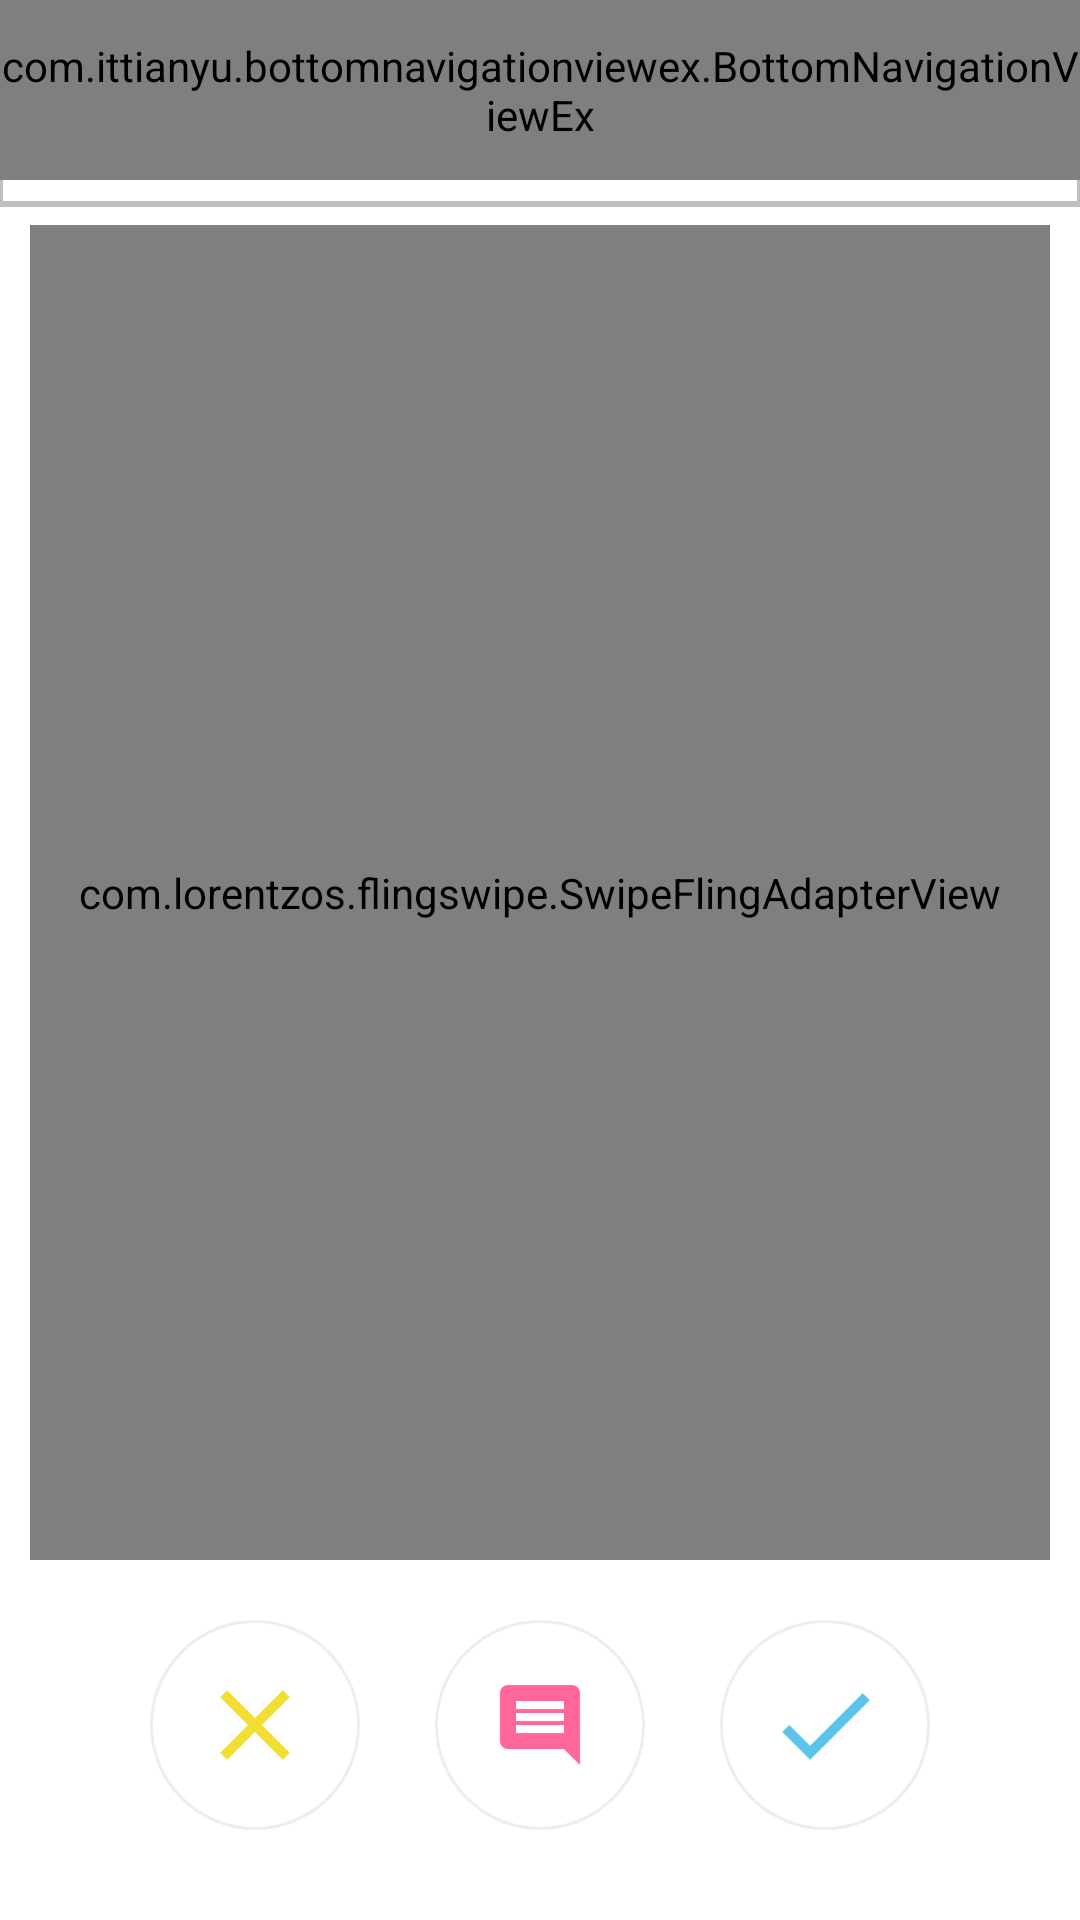

Icon click points for this 1080w x 1920h phone screenshot, format point (x, y):
comment: point (540, 1725)
dislike: point (255, 1725)
like: point (826, 1726)
